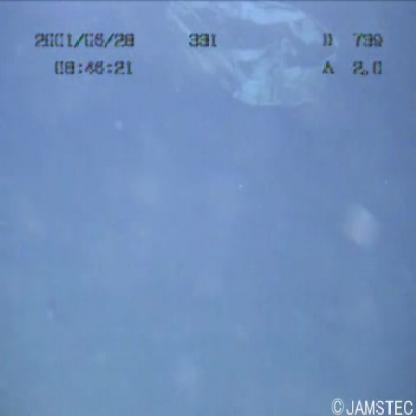Rác: (161, 1, 344, 132)
